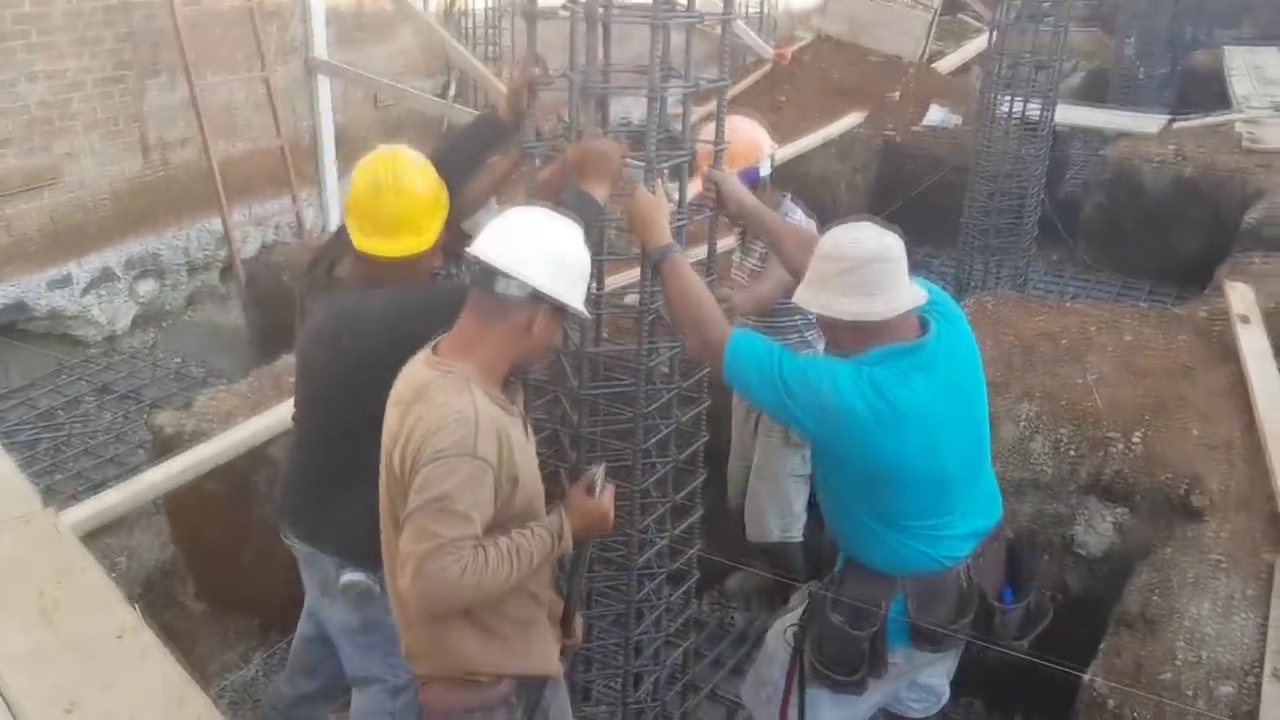helmet: (461, 203, 593, 319), (340, 142, 450, 261), (694, 116, 782, 193)
helmet-off: (788, 217, 929, 366)
helmet-on: (430, 203, 596, 386), (310, 142, 449, 293), (694, 116, 782, 232)
person: (632, 172, 1005, 718), (273, 51, 572, 720), (380, 132, 625, 717), (686, 104, 828, 640)
